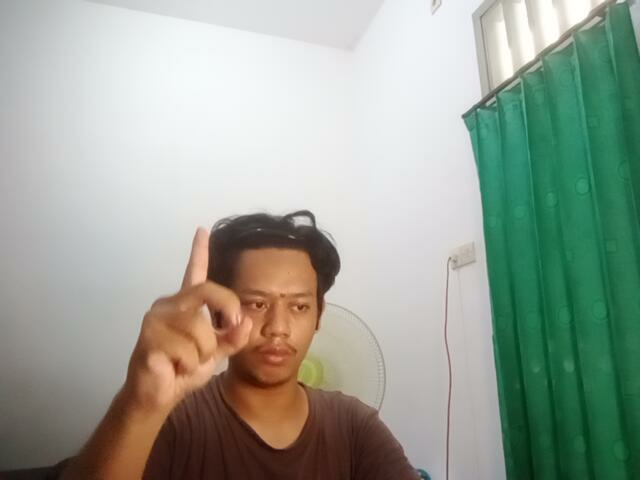D: (127, 224, 259, 402)
